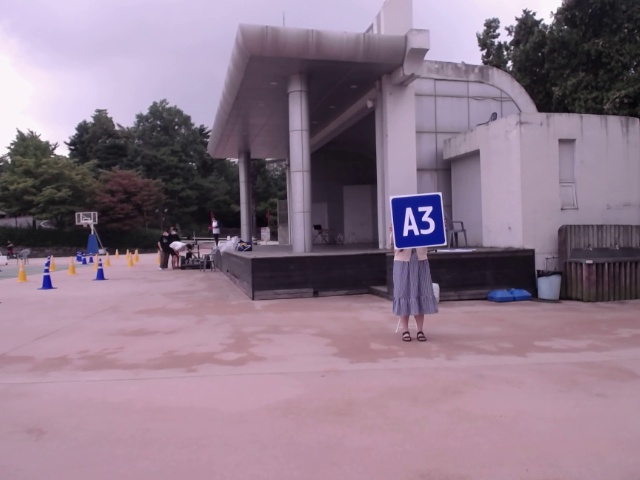delivery_a3: (390, 193, 447, 249)
